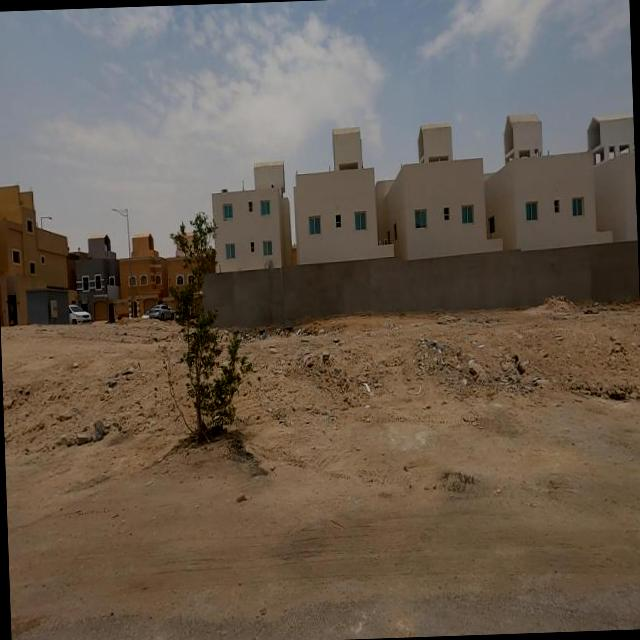debris: (340, 349, 398, 431)
